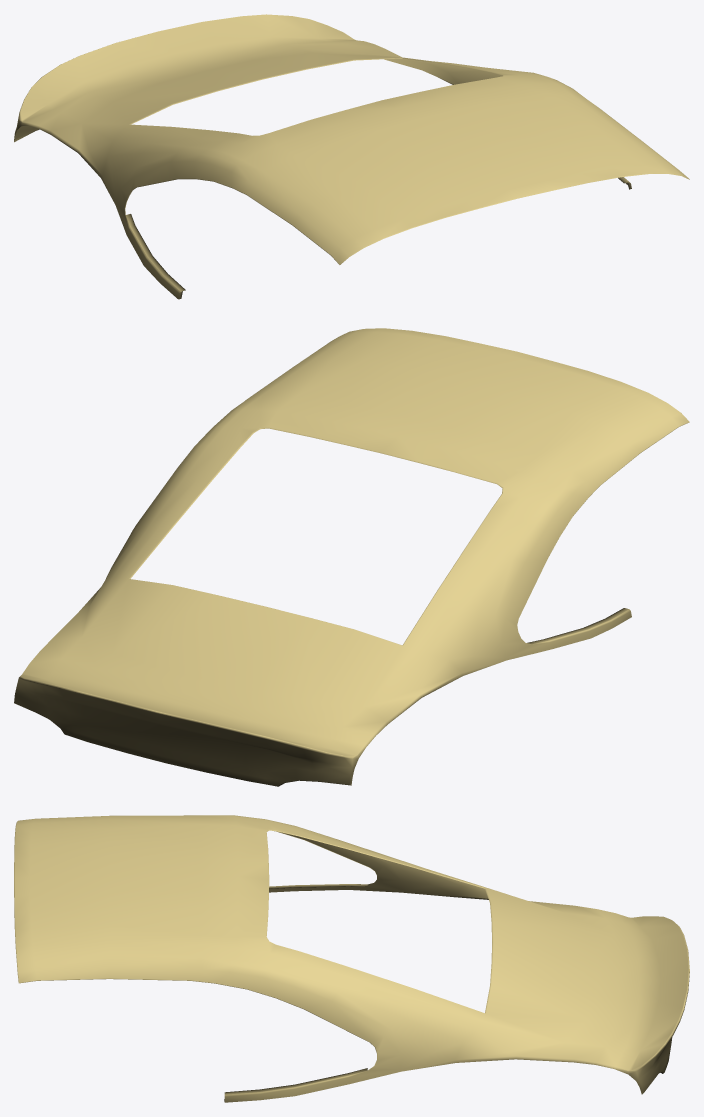
The model's file is MX5_Roof04_Duco.fbx.
3 views of the same model, one above another, from view 1: azimuth 30°, elevation 25°; view 2: azimuth 150°, elevation 25°; view 3: azimuth 270°, elevation 25° (orthographic). The views are drawn at different scales.
Visible parts, largest first — view 1: MX5_Roof04_Duco; view 2: MX5_Roof04_Duco; view 3: MX5_Roof04_Duco.
Boxes of the visible parts, x1=… form: MX5_Roof04_Duco: x1=14, y1=14, x2=689, y2=299; MX5_Roof04_Duco: x1=14, y1=328, x2=689, y2=786; MX5_Roof04_Duco: x1=14, y1=815, x2=689, y2=1102.
Size of the model in its own units: 141 by 48.29 by 194.
